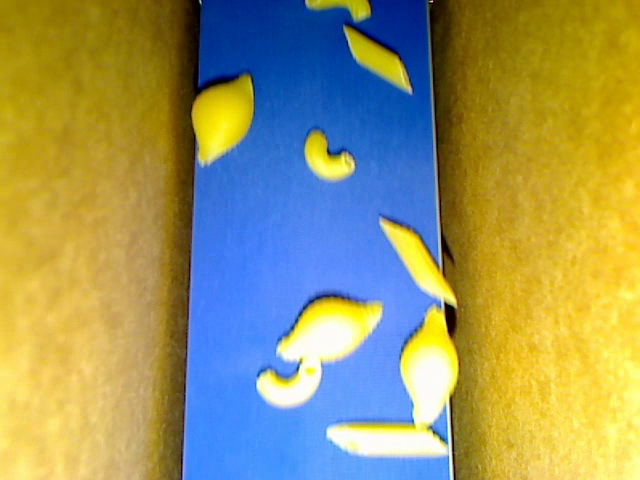elbow: (256, 358, 322, 409), (303, 129, 356, 183), (305, 1, 371, 23)
penne: (379, 217, 457, 305), (344, 26, 412, 93), (325, 423, 449, 456)
shell: (274, 293, 384, 363), (402, 305, 458, 429), (192, 73, 256, 166)
